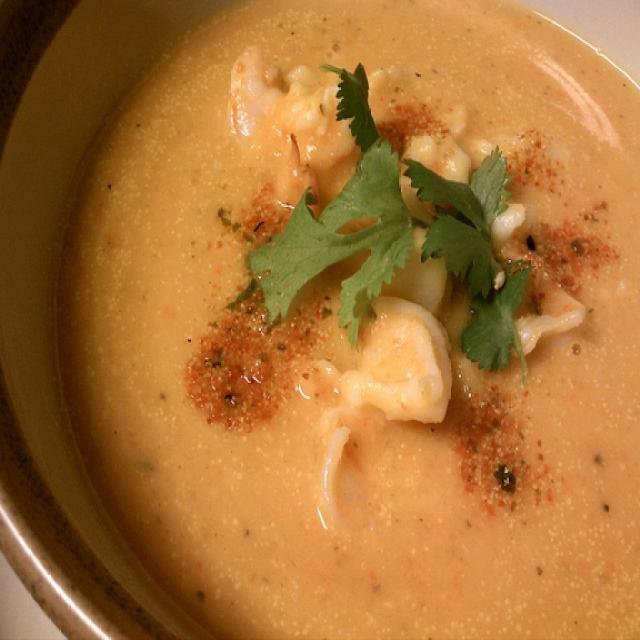汤锅炖物: (65, 37, 618, 604)
